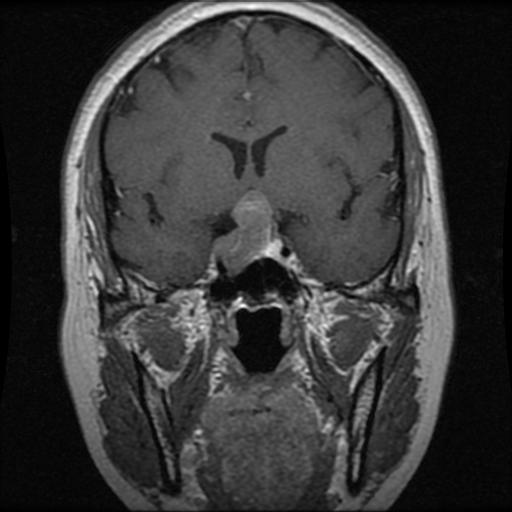Pituirity_tumour: (214, 190, 281, 274)
